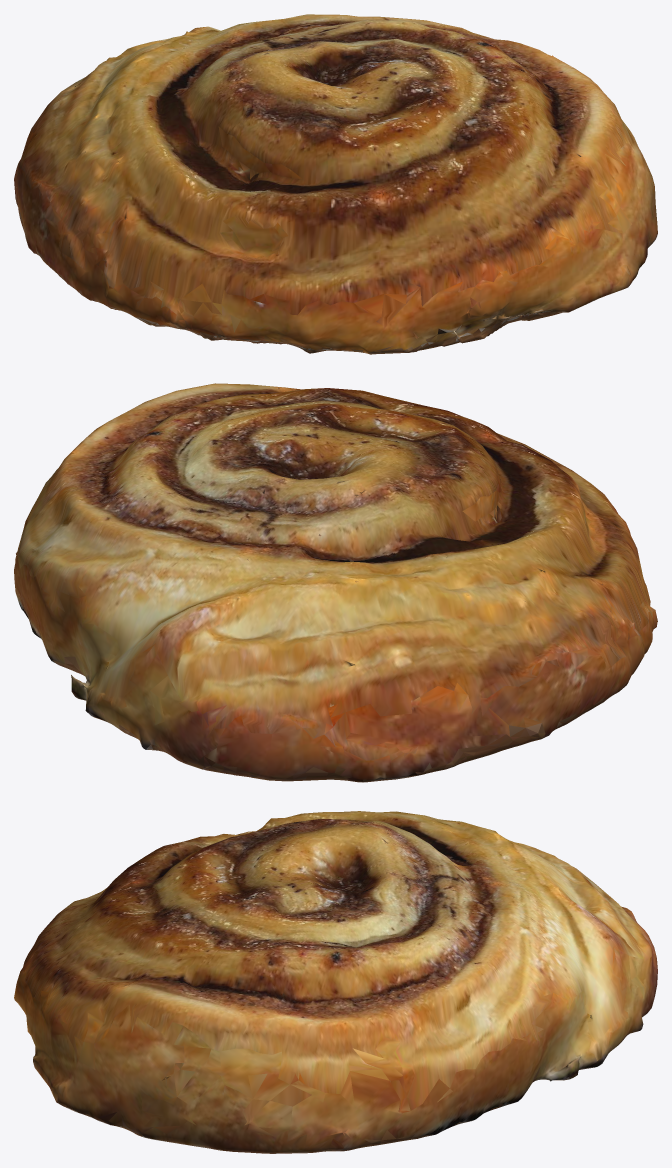
The model's file is cinnamon_7602.obj.
3 renders of one model, top to bottom at view 1: azimuth 30°, elevation 25°; view 2: azimuth 150°, elevation 25°; view 3: azimuth 270°, elevation 25°, orthographic. The views are drawn at different scales.
Size of the model in its own units: 110 by 33.98 by 115.
Materials: 1 (1 with a texture image).
